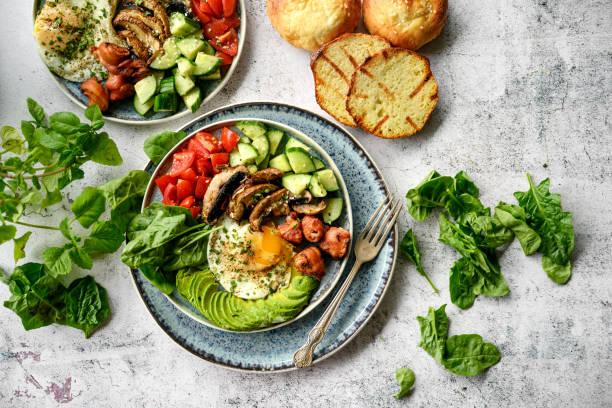Braised Crucian Carp: (135, 113, 357, 334), (33, 0, 240, 125)
